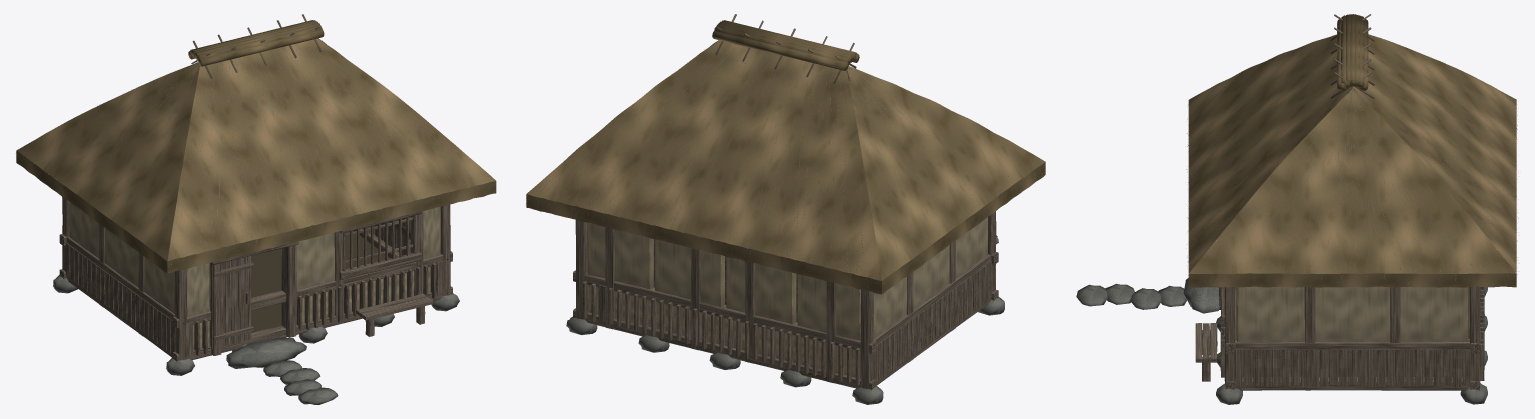
File: farmhouse.glb
The picture shows the model from 3 angles, left to right: view 1: azimuth 30°, elevation 25°; view 2: azimuth 150°, elevation 25°; view 3: azimuth 270°, elevation 25°; orthographic projection. The views are drawn at different scales.
Parts seen in each view (by area): view 1: Farmhouse_Game_LOD0; view 2: Farmhouse_Game_LOD0; view 3: Farmhouse_Game_LOD0.
Boxes of the visible parts, <box> form: Farmhouse_Game_LOD0: <box>16,14,496,404</box>; Farmhouse_Game_LOD0: <box>526,14,1045,404</box>; Farmhouse_Game_LOD0: <box>1076,14,1518,404</box>.
Size of the model in its own units: 7.38 by 5.62 by 7.8.
Materials: 12 (4 with a texture image).
